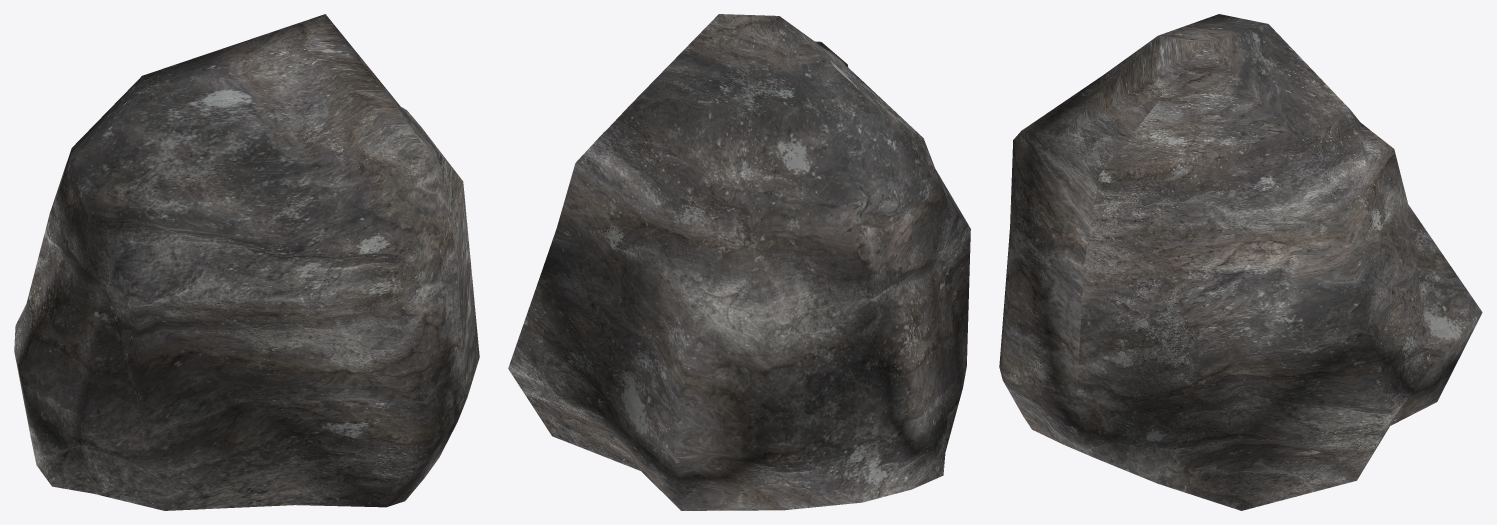
File: rock3.fbx
3 renders of one model, left to right at view 1: azimuth 30°, elevation 25°; view 2: azimuth 150°, elevation 25°; view 3: azimuth 270°, elevation 25°, orthographic. The views are drawn at different scales.
Visible parts, largest first — view 1: rock6; view 2: rock6; view 3: rock6.
Part boxes in pixels (box(x1,y1,x2,y2)): rock6: box(14, 14, 479, 510); rock6: box(508, 14, 970, 510); rock6: box(999, 14, 1482, 510).
Bounding box in the file's own units: 1.81 × 1.76 × 1.94.
